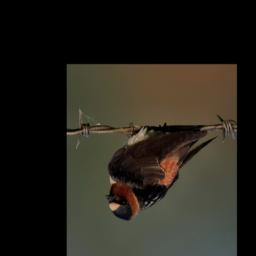Swallow: (105, 122, 219, 222)
